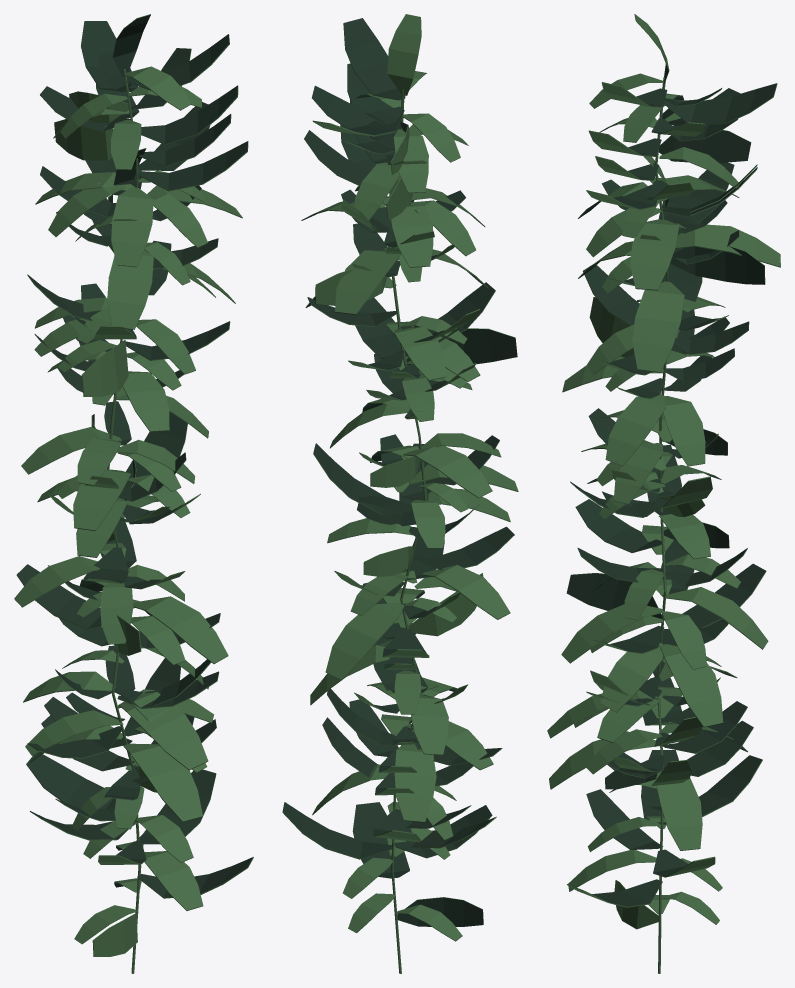
Rendered from seetang.FBX.
The picture shows the model from 3 angles, left to right: view 1: azimuth 30°, elevation 25°; view 2: azimuth 150°, elevation 25°; view 3: azimuth 270°, elevation 25°; orthographic projection.
Parts seen in each view (by area): view 1: blatt_101, blatt_113, blatt_034, blatt_105, blatt_048, blatt_108, blatt_017, blatt_006, blatt_032, blatt_140, blatt_087, blatt_139 (+71 smaller); view 2: blatt_005, blatt_011, blatt_072, blatt_076, blatt_053, blatt_025, blatt_043, blatt_110, blatt_045, blatt_109, blatt_044, blatt_139 (+57 smaller); view 3: blatt_085, blatt_082, blatt_126, blatt_081, blatt_015, blatt_009, blatt_123, blatt_076, blatt_084, blatt_133, blatt_031, blatt_141 (+58 smaller).
Boxes of the visible parts, x1,y1,x2,y2 form: blatt_101: [123, 743, 202, 822]; blatt_113: [111, 187, 153, 267]; blatt_034: [133, 596, 228, 663]; blatt_105: [107, 250, 153, 329]; blatt_048: [119, 697, 208, 770]; blatt_108: [26, 753, 115, 808]; blatt_017: [122, 371, 169, 431]; blatt_006: [73, 469, 130, 530]; blatt_032: [144, 851, 203, 910]; blatt_140: [137, 141, 248, 191]; blatt_087: [141, 85, 238, 144]; blatt_139: [81, 340, 128, 396]; blatt_005: [325, 603, 404, 679]; blatt_011: [343, 18, 405, 100]; blatt_072: [394, 744, 436, 822]; blatt_076: [335, 250, 400, 314]; blatt_053: [387, 14, 421, 95]; blatt_025: [282, 802, 392, 859]; blatt_043: [403, 446, 492, 498]; blatt_110: [421, 565, 510, 619]; blatt_045: [391, 205, 433, 267]; blatt_109: [411, 695, 448, 755]; blatt_044: [394, 326, 446, 380]; blatt_139: [406, 328, 517, 365]; blatt_085: [632, 281, 684, 372]; blatt_082: [659, 644, 723, 727]; blatt_126: [630, 219, 679, 290]; blatt_081: [656, 772, 702, 850]; blatt_015: [670, 246, 765, 284]; blatt_009: [605, 394, 665, 466]; blatt_123: [664, 83, 777, 124]; blatt_076: [675, 224, 780, 267]; blatt_084: [663, 396, 705, 466]; blatt_133: [600, 643, 663, 712]; blatt_031: [566, 573, 661, 618]; blatt_141: [575, 499, 661, 552].
Size of the model in its own units: 7.15 by 30.94 by 6.86.
